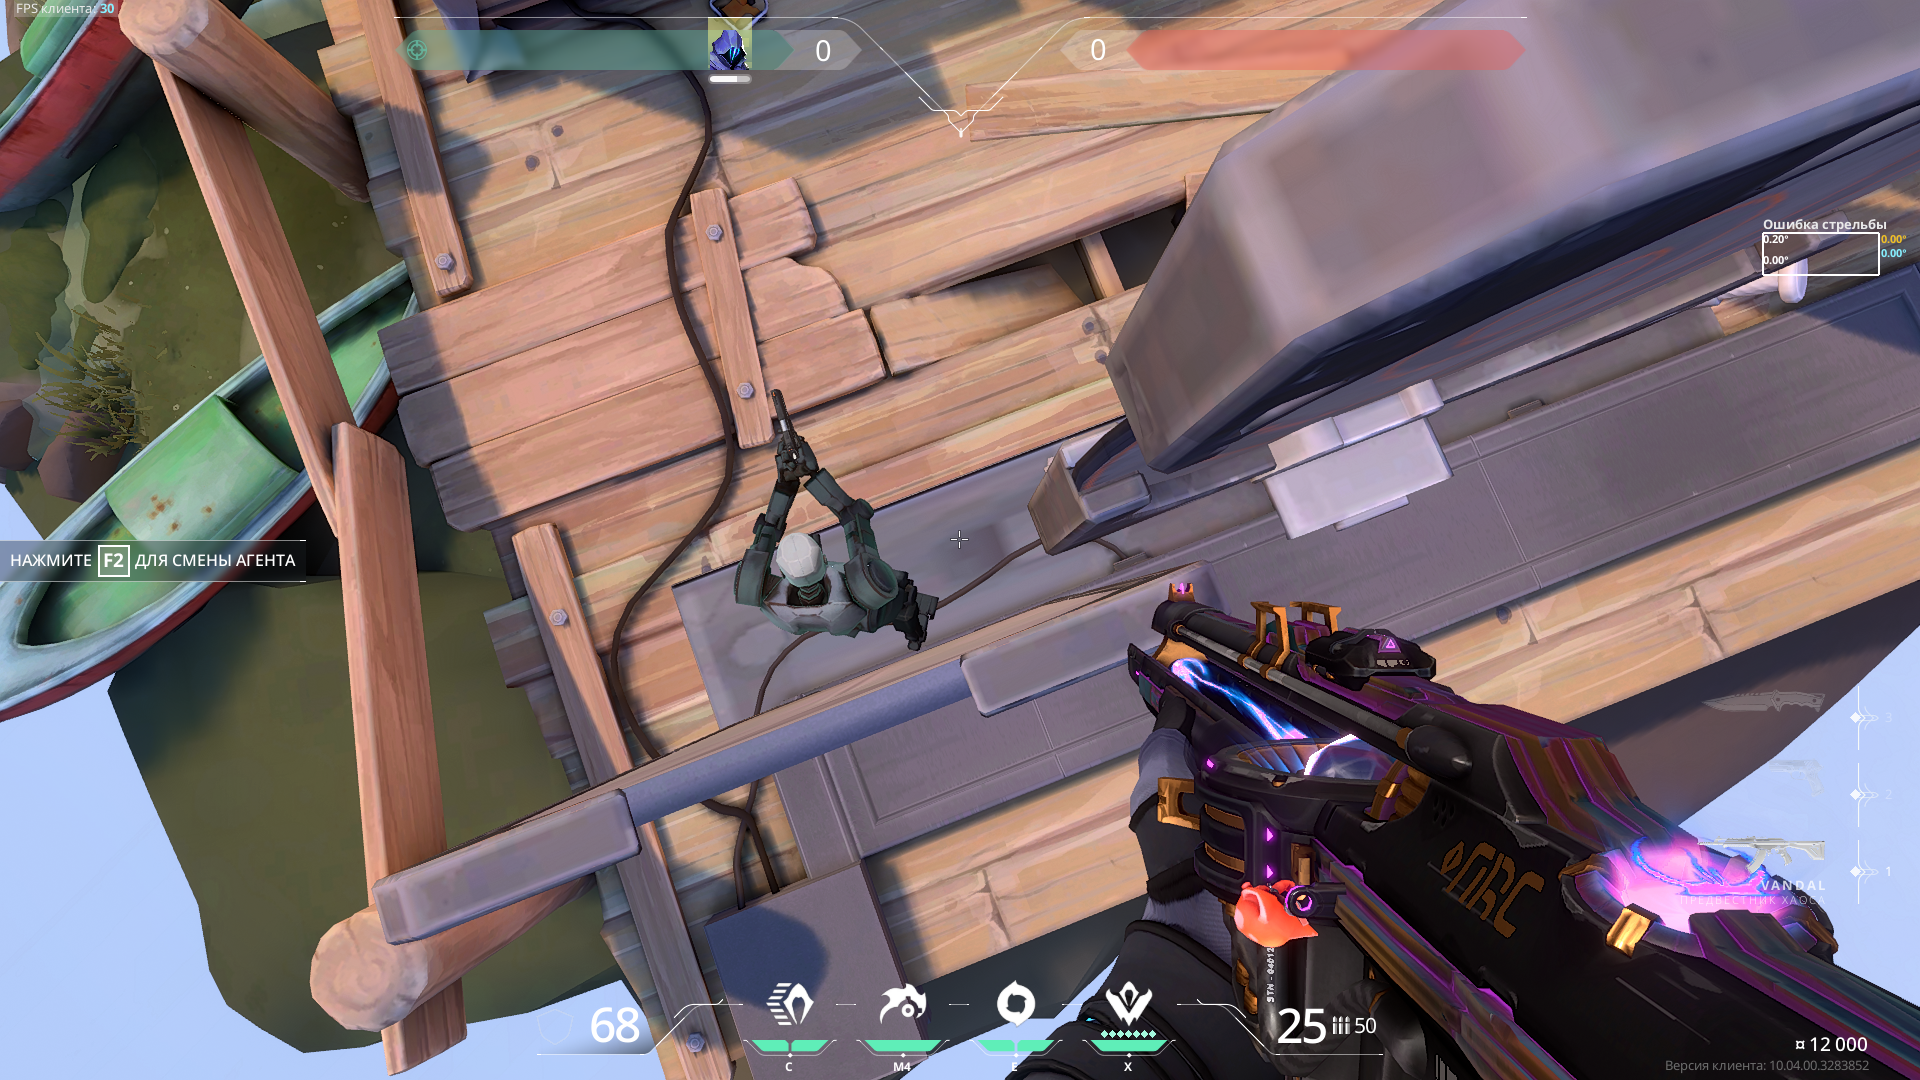head: (775, 533, 828, 588)
